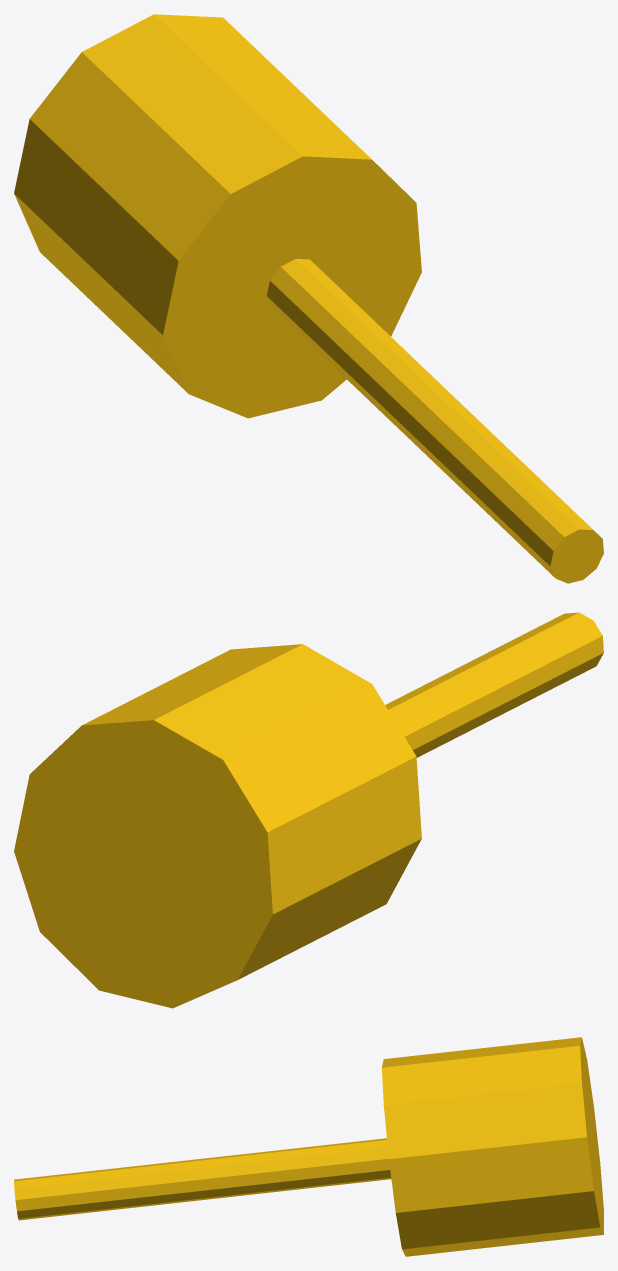
File: key_jack_cylinder.obj
3 views of the same model, one above another, from view 1: azimuth 30°, elevation 25°; view 2: azimuth 150°, elevation 25°; view 3: azimuth 270°, elevation 25° (orthographic). The views are drawn at different scales.
Visible parts, largest first — view 1: white_keys.004_Cube.005; view 2: white_keys.004_Cube.005; view 3: white_keys.004_Cube.005.
Part boxes in pixels (box(x1,y1,x2,y2)): white_keys.004_Cube.005: box(14, 14, 603, 583); white_keys.004_Cube.005: box(14, 612, 603, 1008); white_keys.004_Cube.005: box(14, 1037, 603, 1256).
Bounding box in the file's own units: 0.00976 × 0.0108 × 0.0289.
